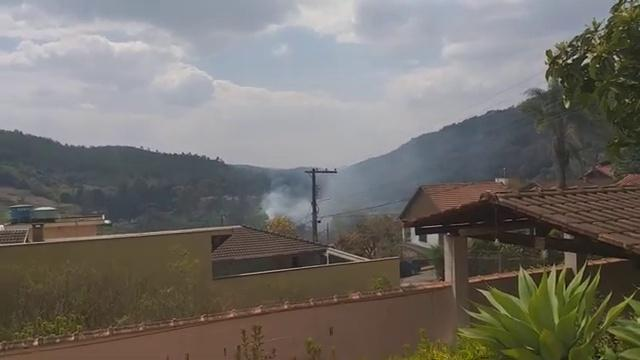smoke: (267, 194, 305, 219)
